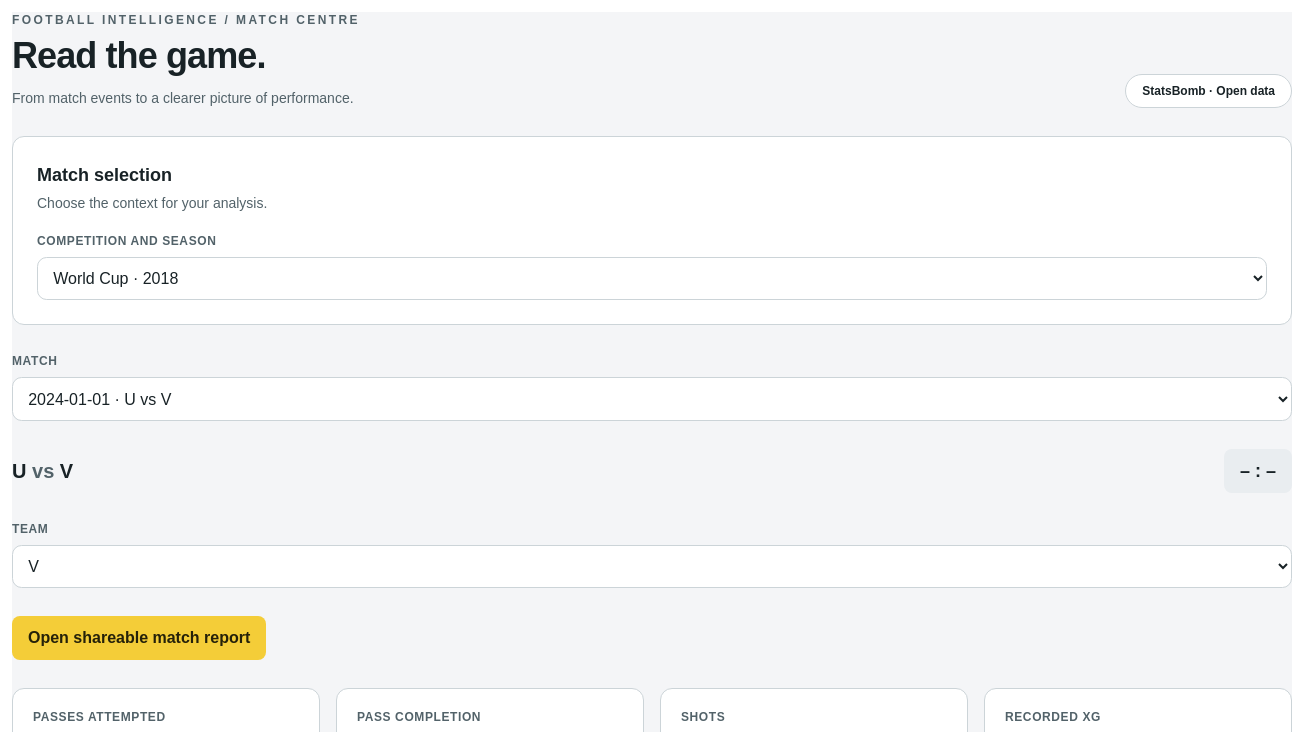
Test: does not carry URL team state into a manually selected match or season
The image size is (1304, 732).
Expected: the dropdown labelled "Competition and season" shows "World Cup · 2018", [37, 257, 1267, 300]
Expected: the dropdown labelled "Team" shows "V", [12, 545, 1292, 588]
Select "2024-01-01 · X vs V" in the dropdown labelled "Match": x=652, y=399 [12, 377, 1292, 421]
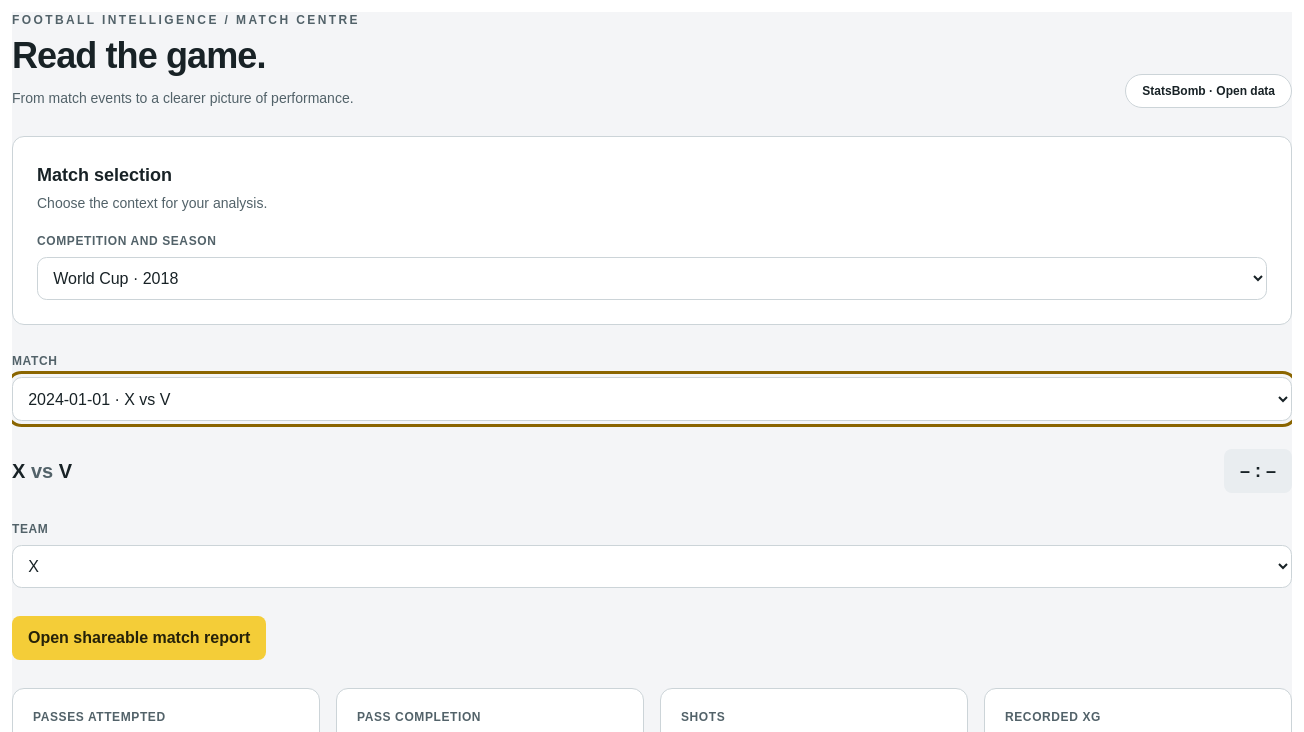
Expected: the dropdown labelled "Team" shows "X", [12, 545, 1292, 588]
Select "Bundesliga · 2023/24" in the dropdown labelled "Competition and season": x=652, y=279 [37, 257, 1267, 300]
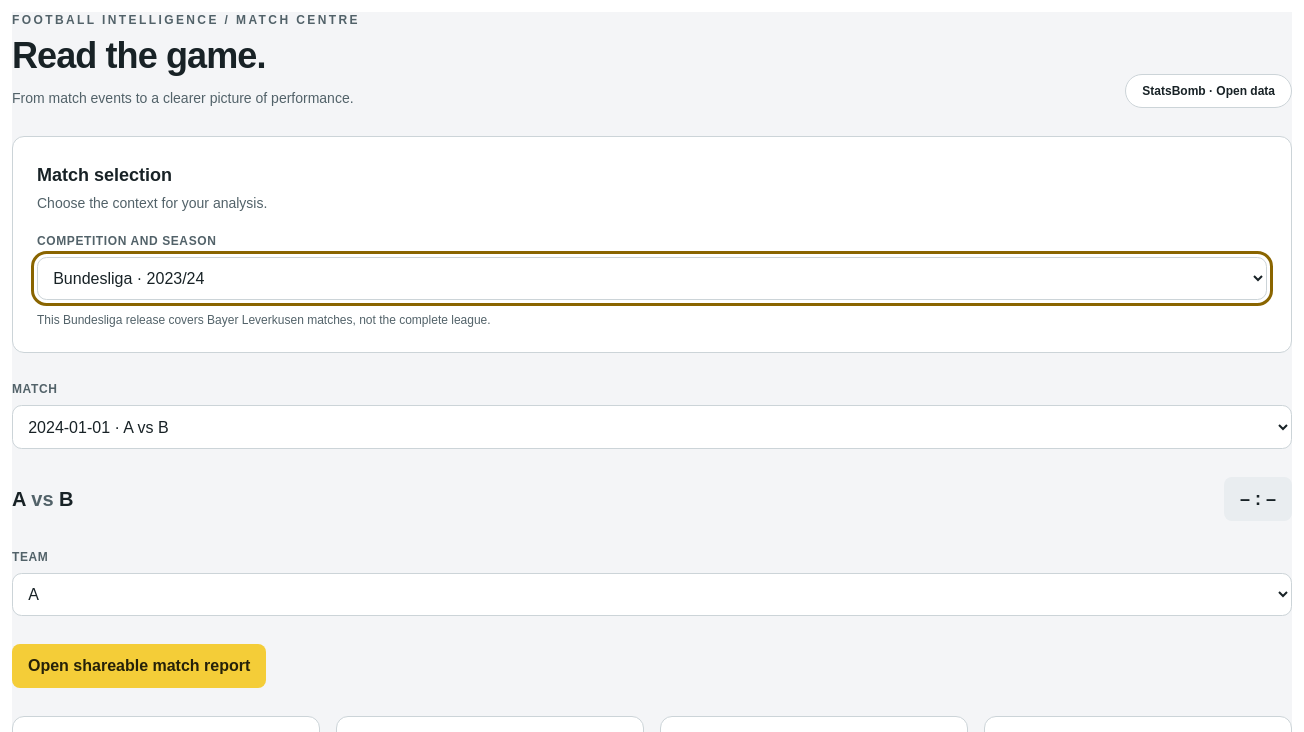
Expected: the dropdown labelled "Match" shows "2024-01-01 · A vs B", [12, 405, 1292, 449]
Expected: the dropdown labelled "Team" shows "A", [12, 573, 1292, 616]
